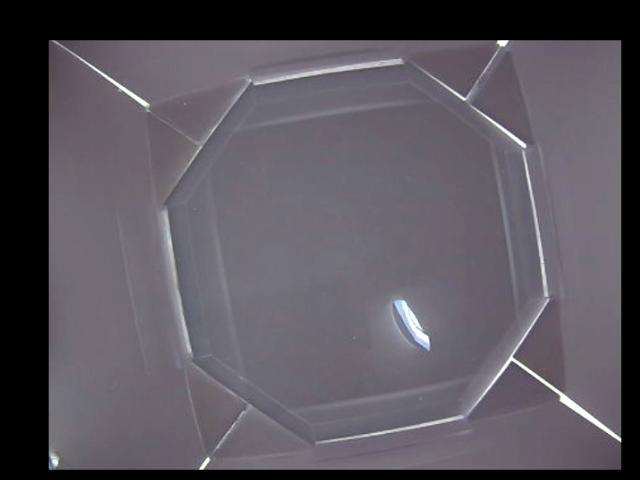China: (388, 297, 430, 350)
